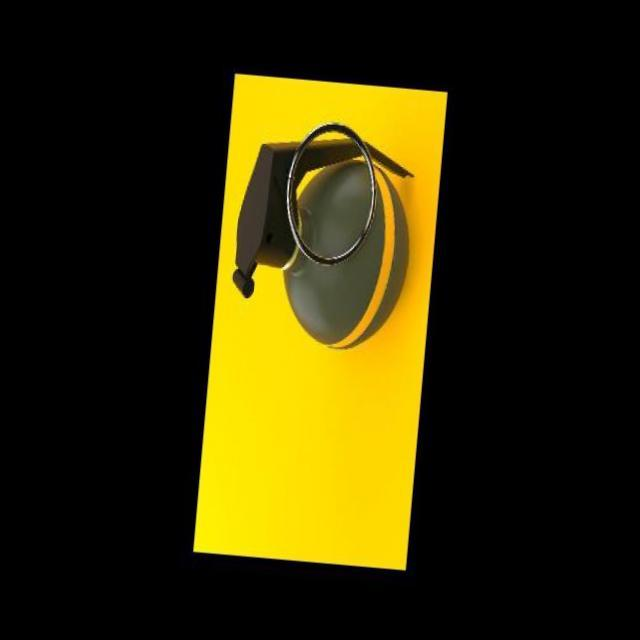grenade: (222, 105, 419, 362)
